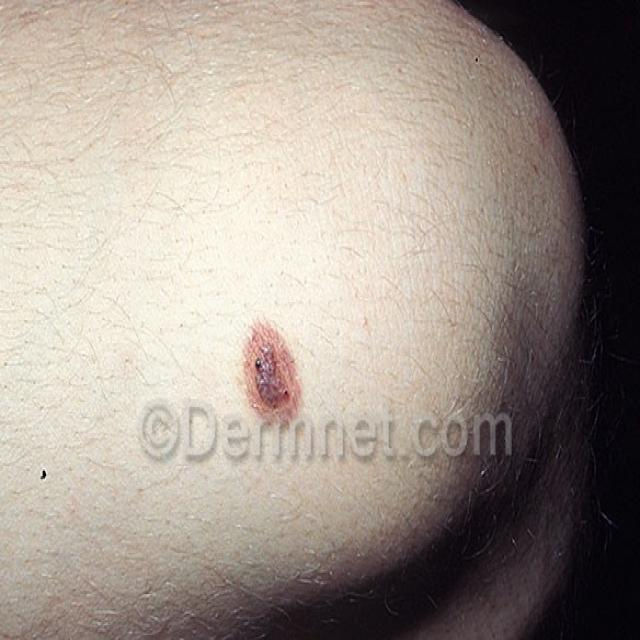Vascular Tumors: (221, 309, 324, 483)
